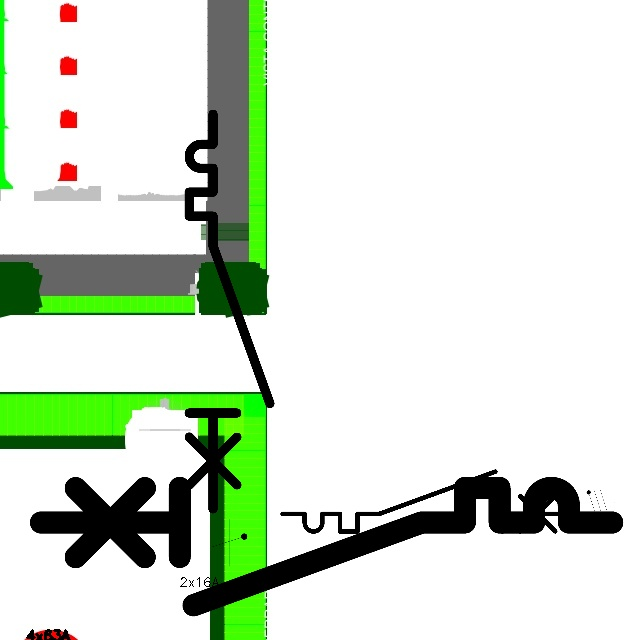interruptor_termomagnetico: (26, 473, 627, 620), (179, 104, 280, 519), (275, 464, 581, 539)
